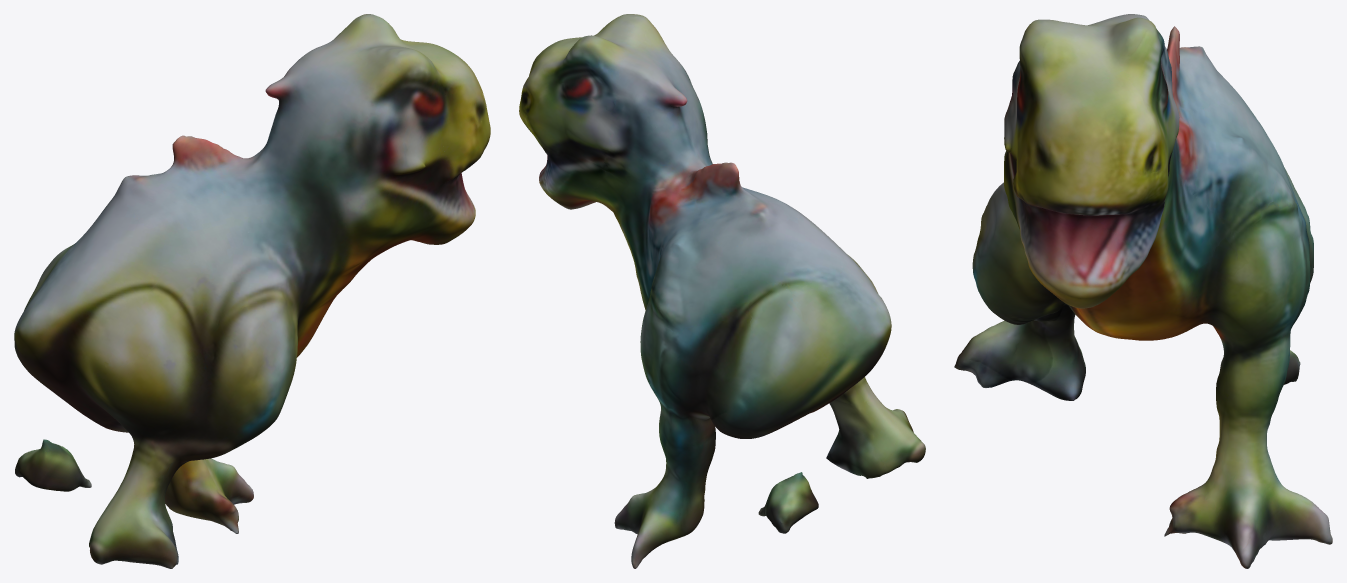
The picture shows the model from 3 angles, left to right: view 1: azimuth 30°, elevation 25°; view 2: azimuth 150°, elevation 25°; view 3: azimuth 270°, elevation 25°; orthographic projection. The views are drawn at different scales.
Visible parts, largest first — view 1: tripo_node_4c9f579b-70bc-44b7-be7f-f49e3a197857; view 2: tripo_node_4c9f579b-70bc-44b7-be7f-f49e3a197857; view 3: tripo_node_4c9f579b-70bc-44b7-be7f-f49e3a197857.
Part boxes in pixels (x1,y1,x2,y2): tripo_node_4c9f579b-70bc-44b7-be7f-f49e3a197857: [14, 14, 490, 568]; tripo_node_4c9f579b-70bc-44b7-be7f-f49e3a197857: [519, 14, 925, 568]; tripo_node_4c9f579b-70bc-44b7-be7f-f49e3a197857: [954, 14, 1332, 568].
Size of the model in its own units: 0.649 by 0.724 by 0.4158.
1 material, 1 textured.
